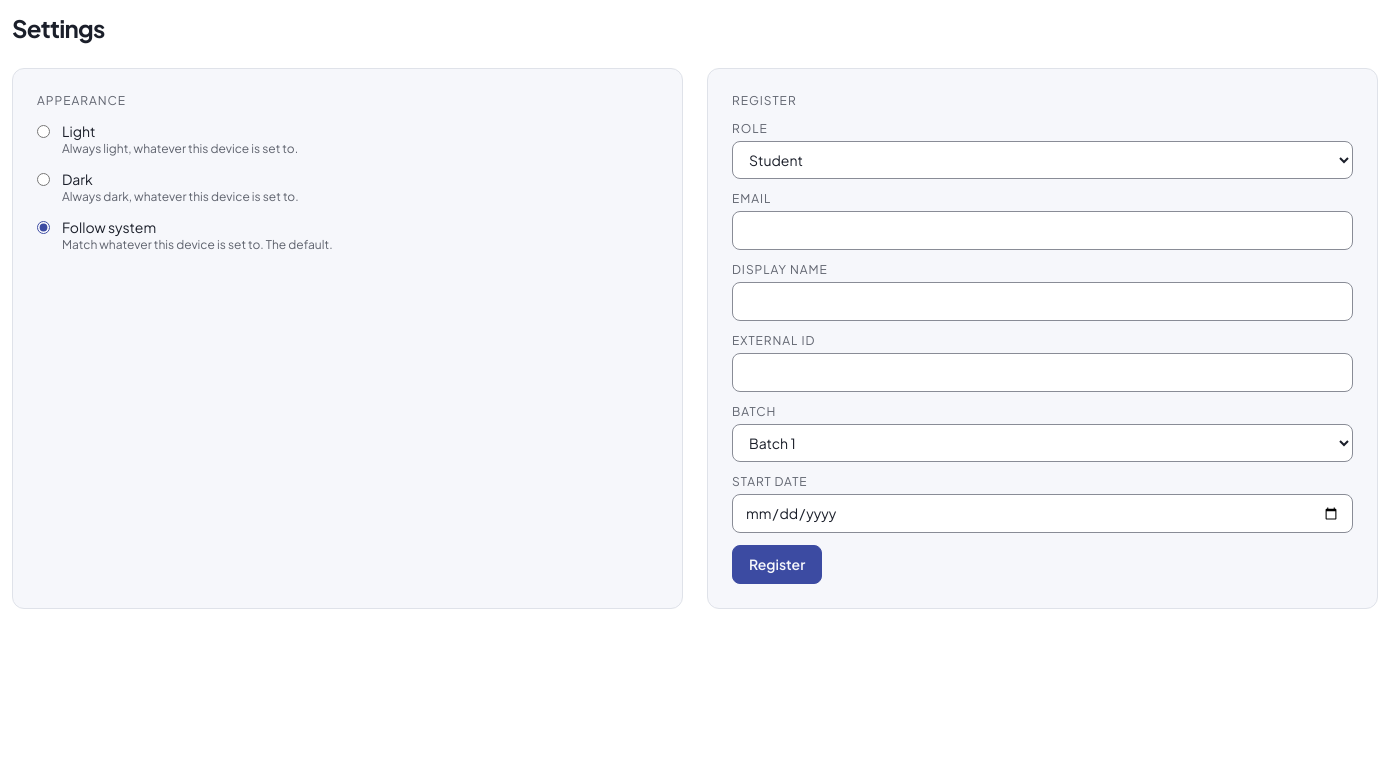
Test: SettingsPage › RegisterForm hides batch/startDate for the Mentor role and omits the enrolment key entirely
Expected: the dropdown labelled "Batch" is shown, [732,424,1353,462]
Expected: the date field labelled "Start date" is shown, [732,494,1353,533]
Select "Mentor" in the dropdown labelled "Role" at (1042, 160), box [732,141,1353,179]
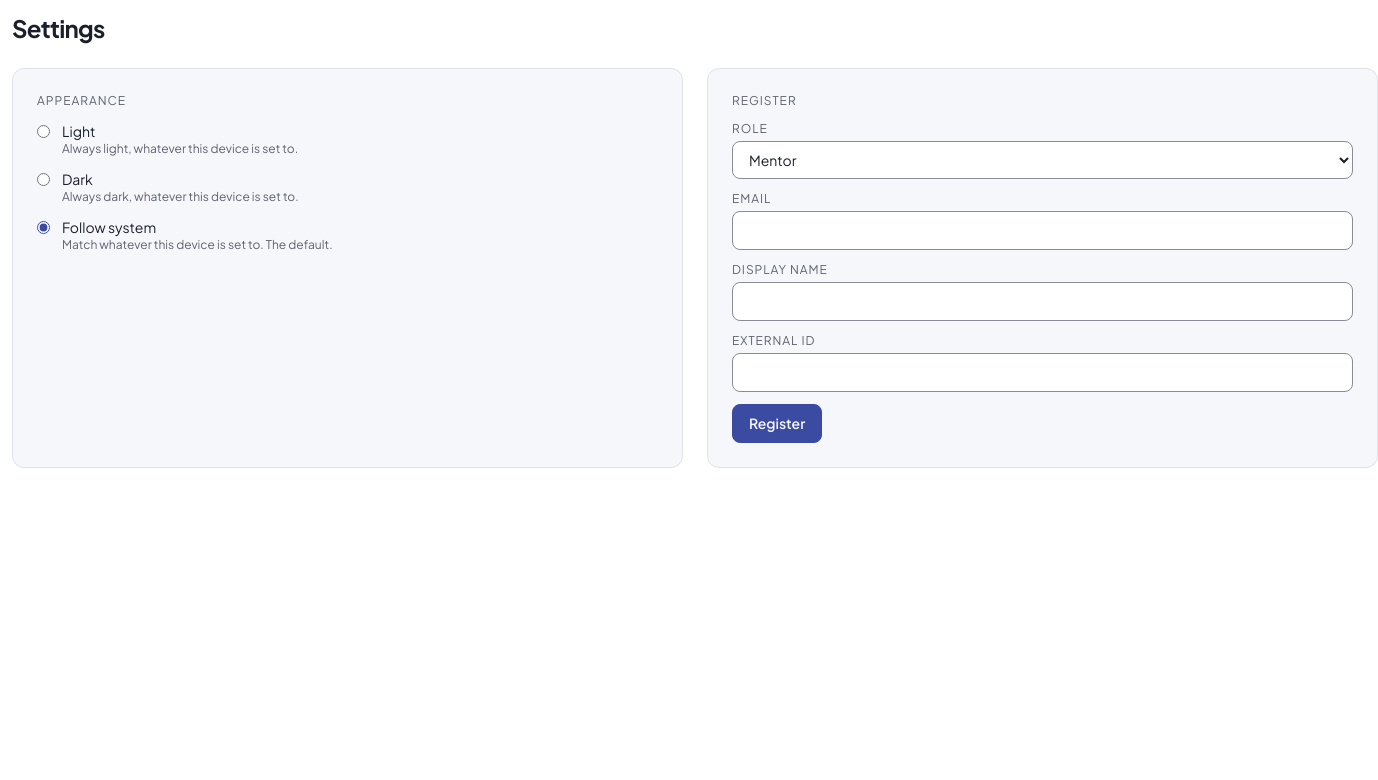
Expected: the text labelled "Batch" is gone
Expected: the text labelled "Start date" is gone
Type "new.mentor@bistecglobal.com" into the field labelled "Email" at (1042, 230), box [732,211,1353,250]
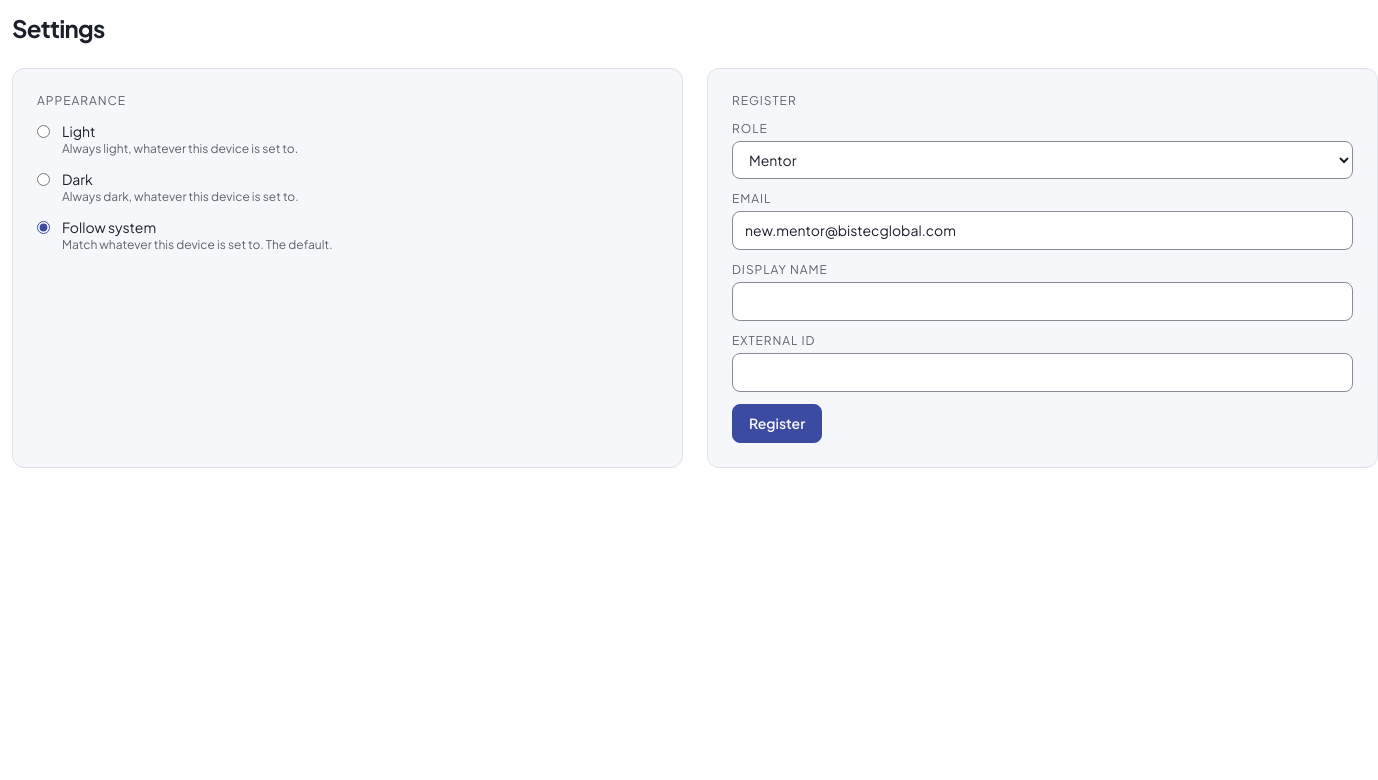
Type "New Mentor" into the field labelled "Display name" at (1042, 302), box [732,282,1353,321]
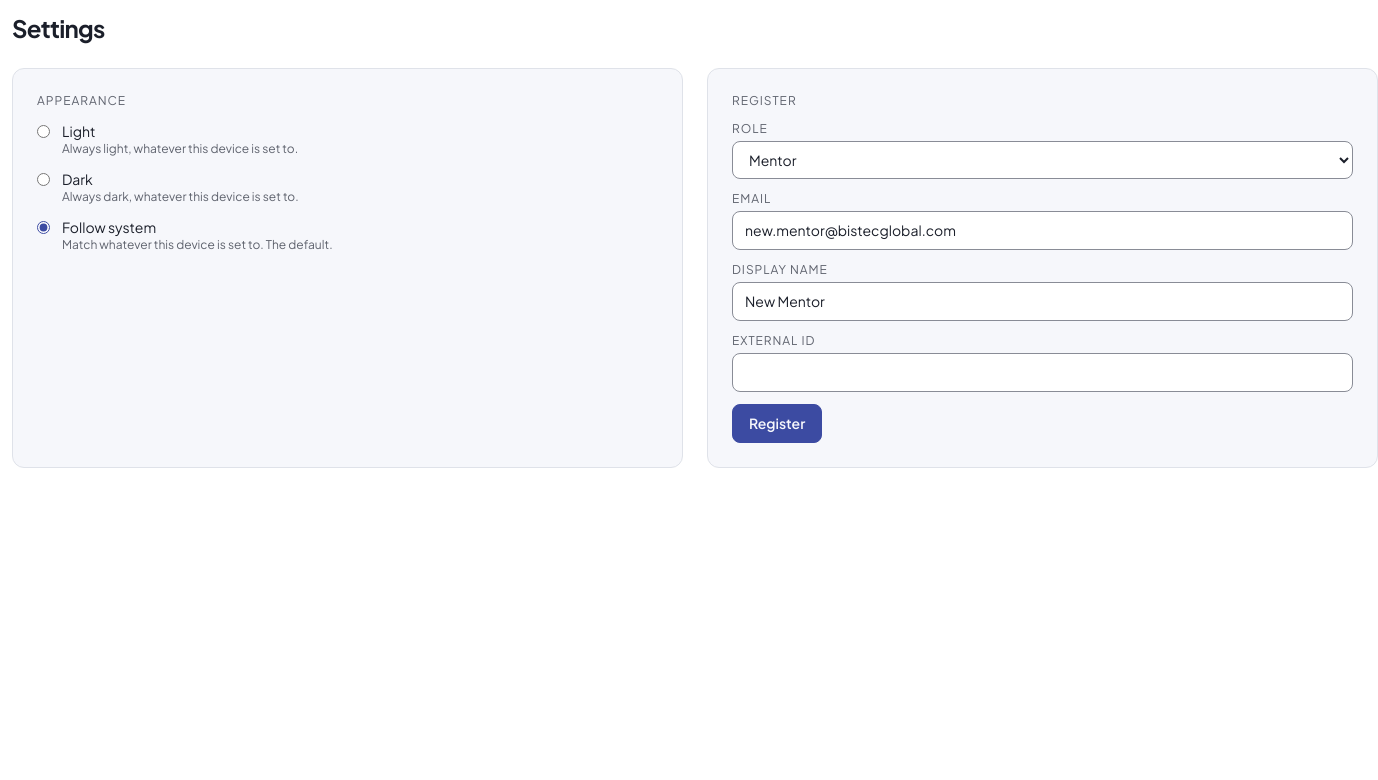
Type "oid-123" into the field labelled "External id" at (1042, 372), box [732,353,1353,392]
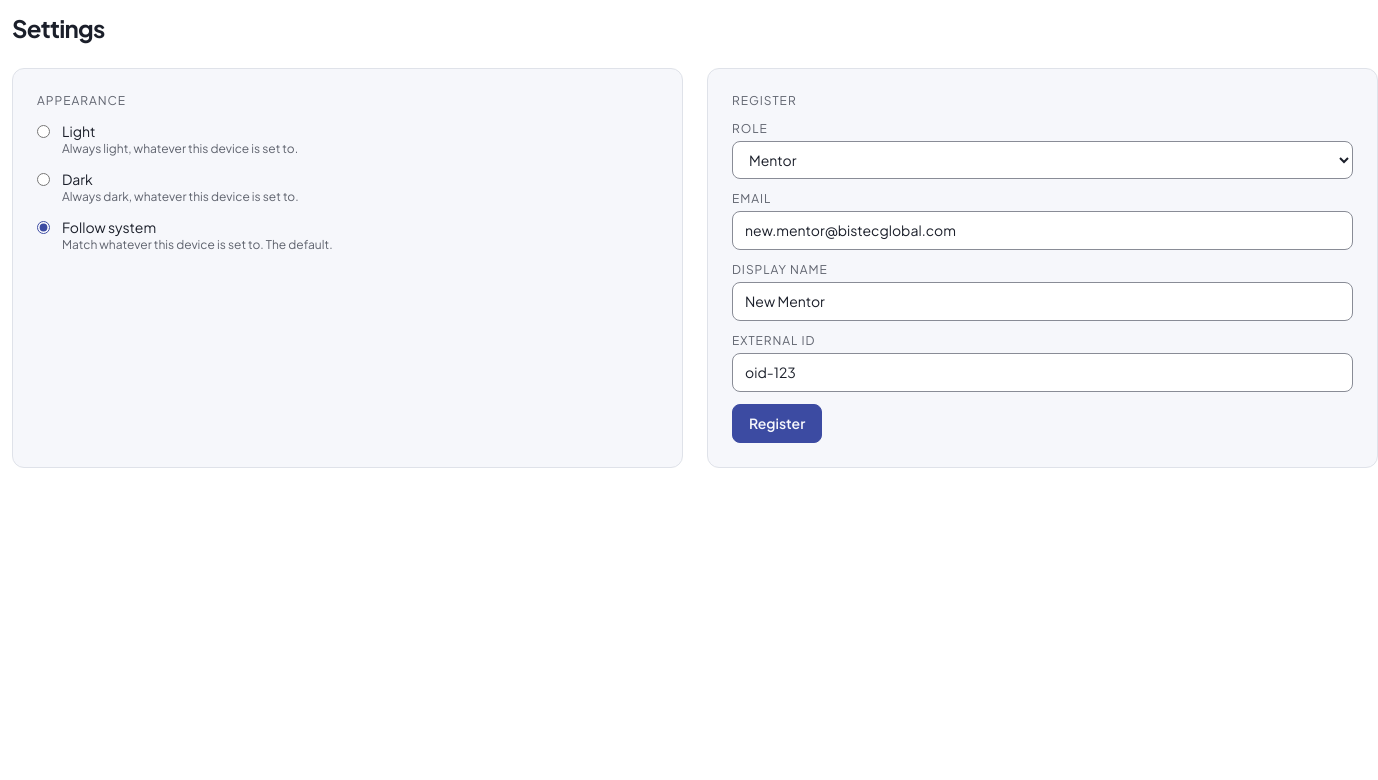
Click the button "Register" at (777, 424), box [732,404,822,443]
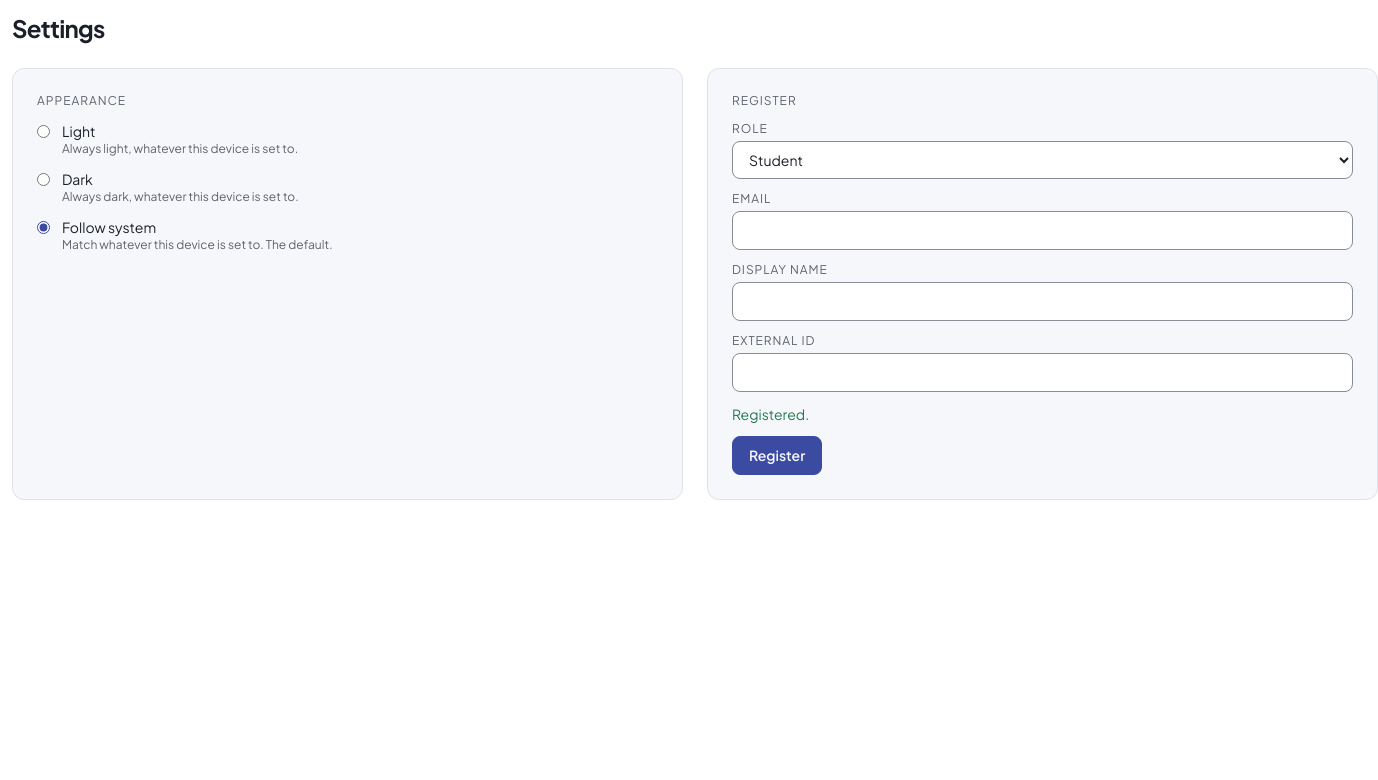
Expected: the message "Registered." is shown, [732,405,809,423]
